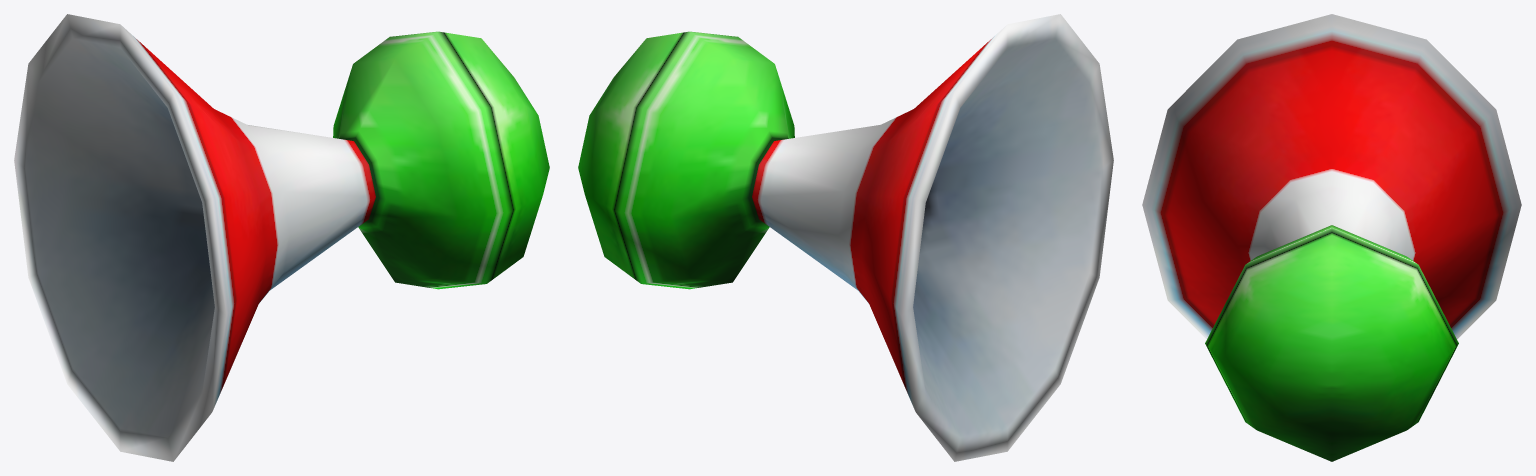
File: horn.obj
The picture shows the model from 3 angles, left to right: view 1: azimuth 30°, elevation 25°; view 2: azimuth 150°, elevation 25°; view 3: azimuth 270°, elevation 25°; orthographic projection. The views are drawn at different scales.
Parts seen in each view (by area): view 1: Mesh_0154.rip; view 2: Mesh_0154.rip; view 3: Mesh_0154.rip.
Part boxes in pixels (x1,y1,x2,y2): Mesh_0154.rip: [14, 14, 549, 461]; Mesh_0154.rip: [578, 14, 1113, 461]; Mesh_0154.rip: [1142, 14, 1521, 461].
Size of the model in its own units: 5.97 by 5.94 by 5.36.
